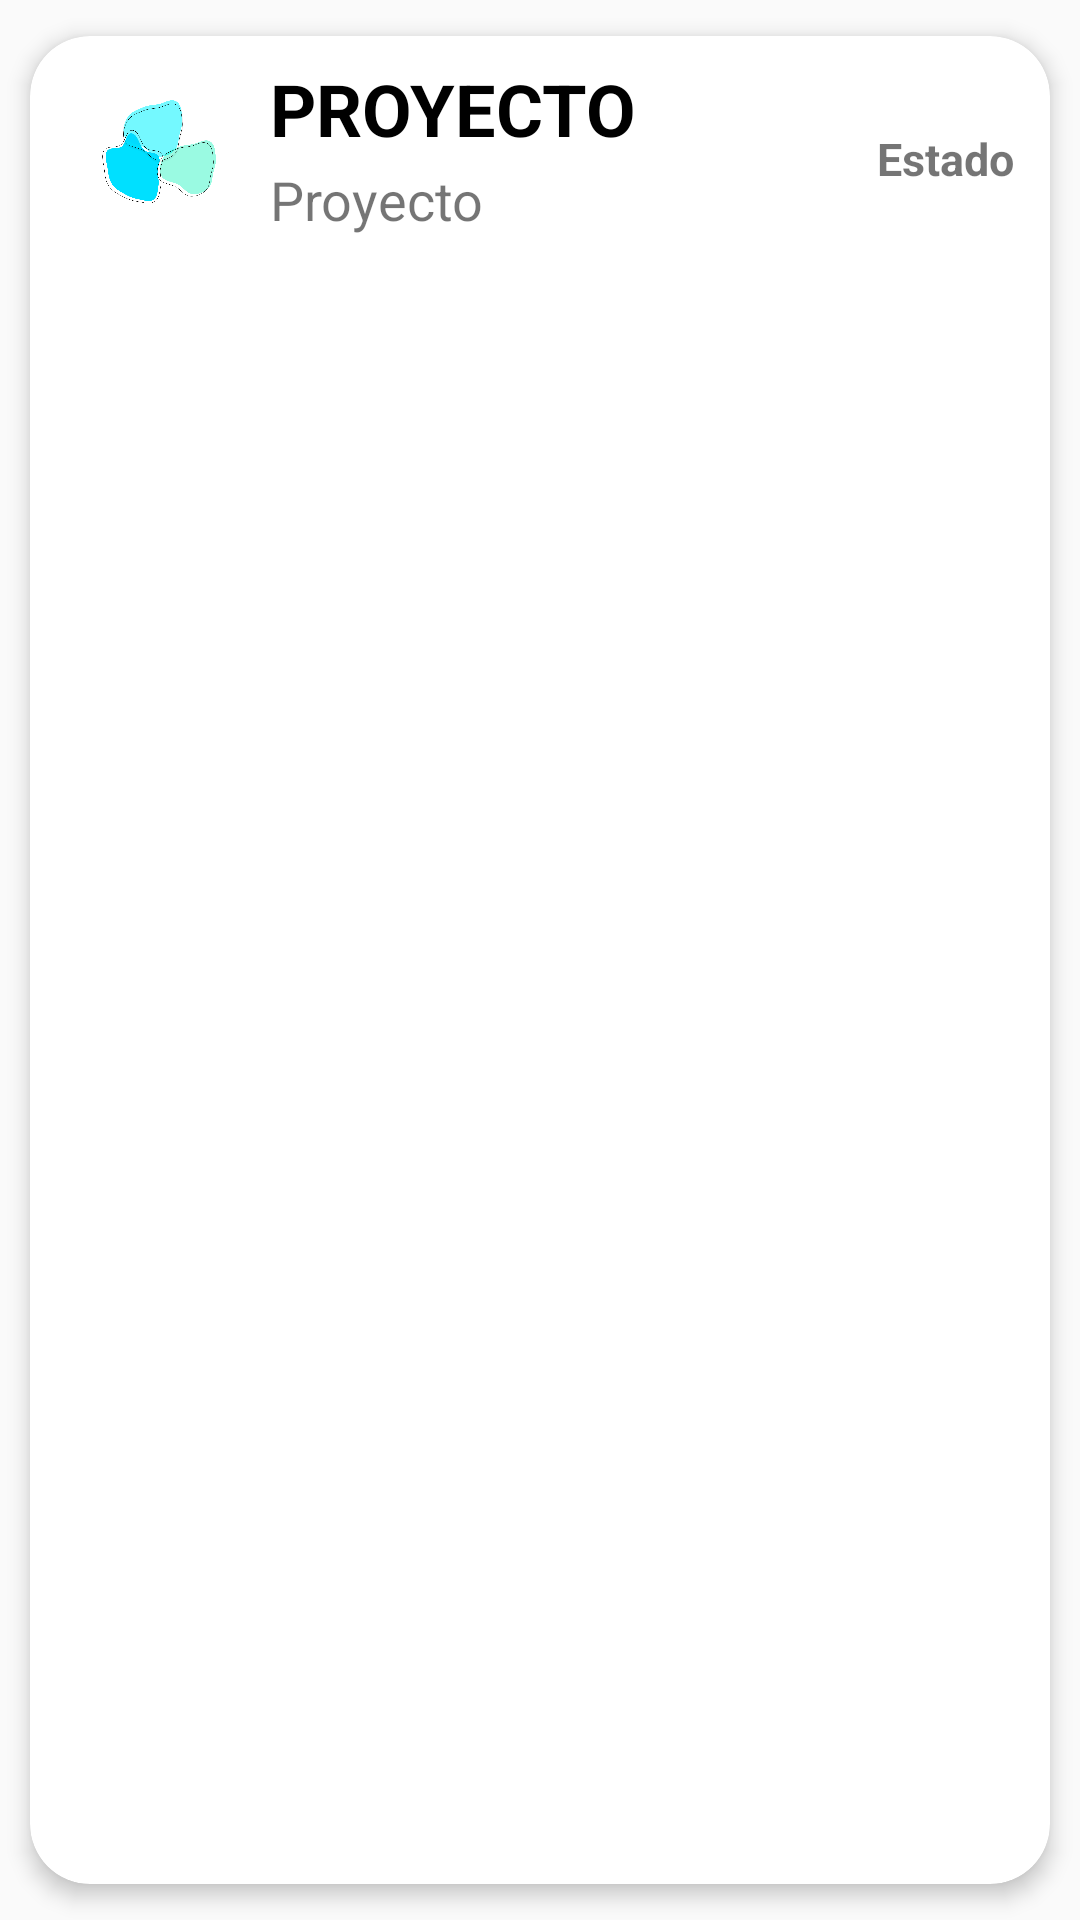

Icon click points for this 1080w x 1920h phone screenshot, format (x,y):
manchas: (159,151)
